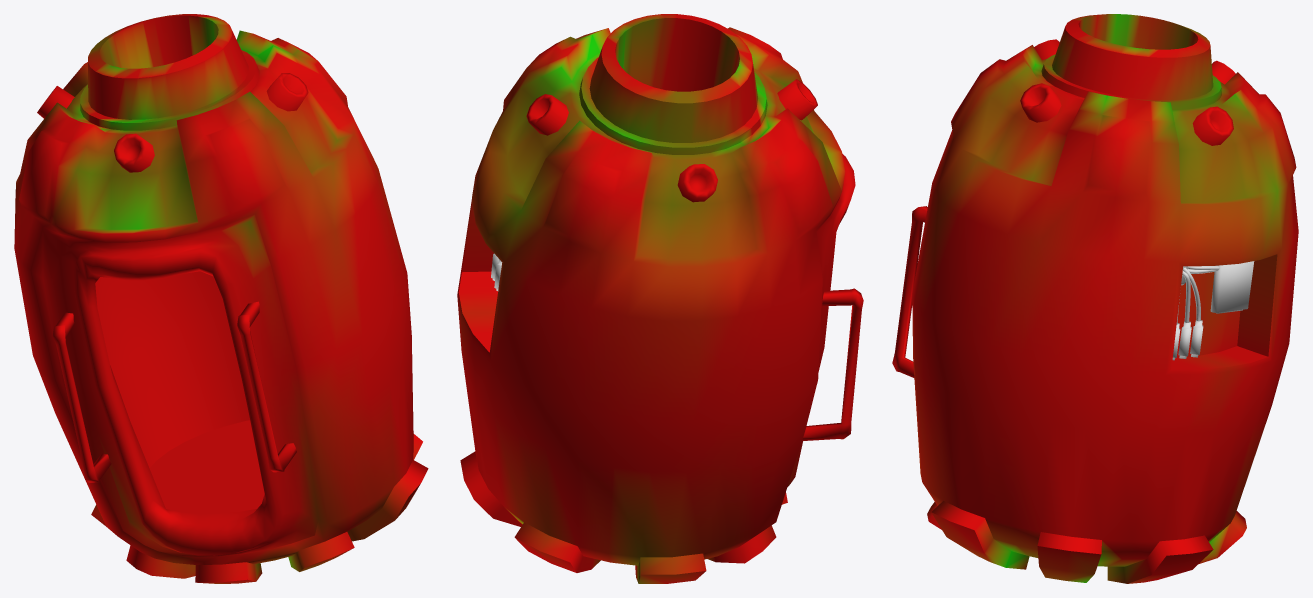
Rendered from SurvivorPodSpawnPoint.fbx.
The picture shows the model from 3 angles, left to right: view 1: azimuth 30°, elevation 25°; view 2: azimuth 150°, elevation 25°; view 3: azimuth 270°, elevation 25°; orthographic projection. The views are drawn at different scales.
Visible parts, largest first — view 1: EscapePodMesh; view 2: EscapePodMesh; view 3: EscapePodMesh.
Part boxes in pixels (x1,y1,x2,y2): EscapePodMesh: [14, 14, 428, 583]; EscapePodMesh: [457, 14, 863, 583]; EscapePodMesh: [892, 14, 1298, 583].
Bounding box in the file's own units: 3.66 × 5.02 × 3.6.
